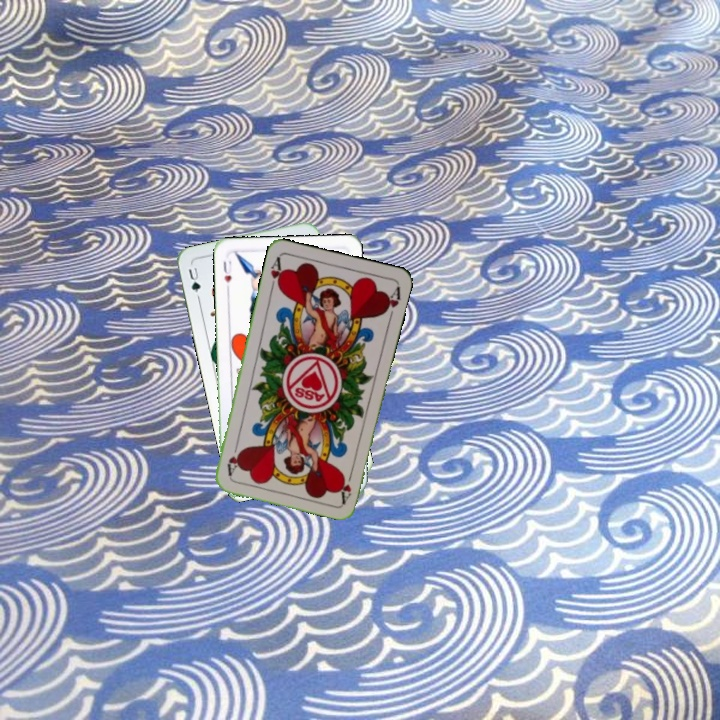GU: (184, 263, 203, 295)
HA: (266, 253, 286, 293), (337, 465, 356, 505)
HU: (219, 257, 234, 293)
